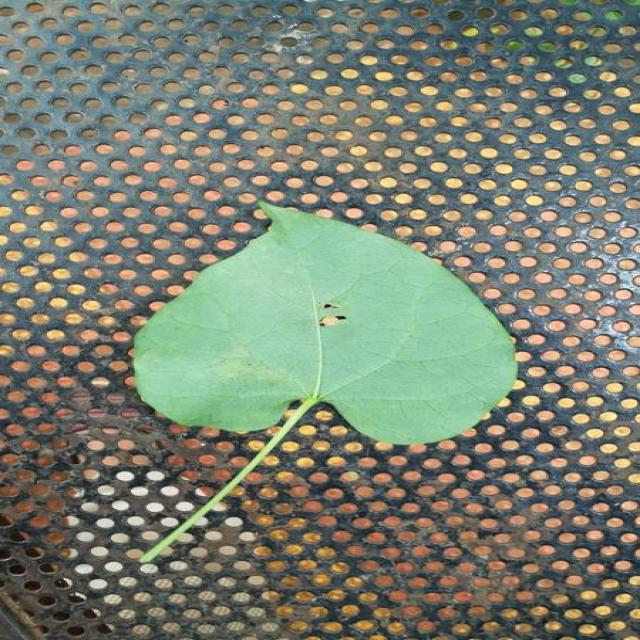Amruthaballi: (133, 202, 517, 468)
defectedAmruthaballi: (308, 288, 383, 366)
